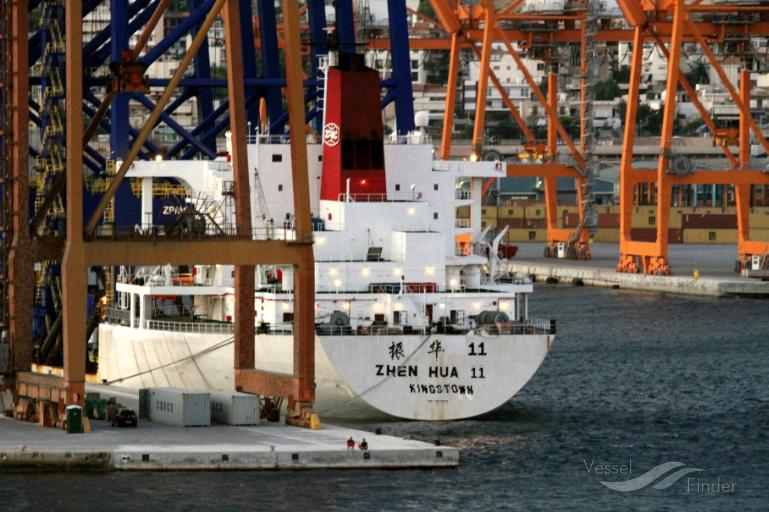OCR: (372, 358, 490, 400)
